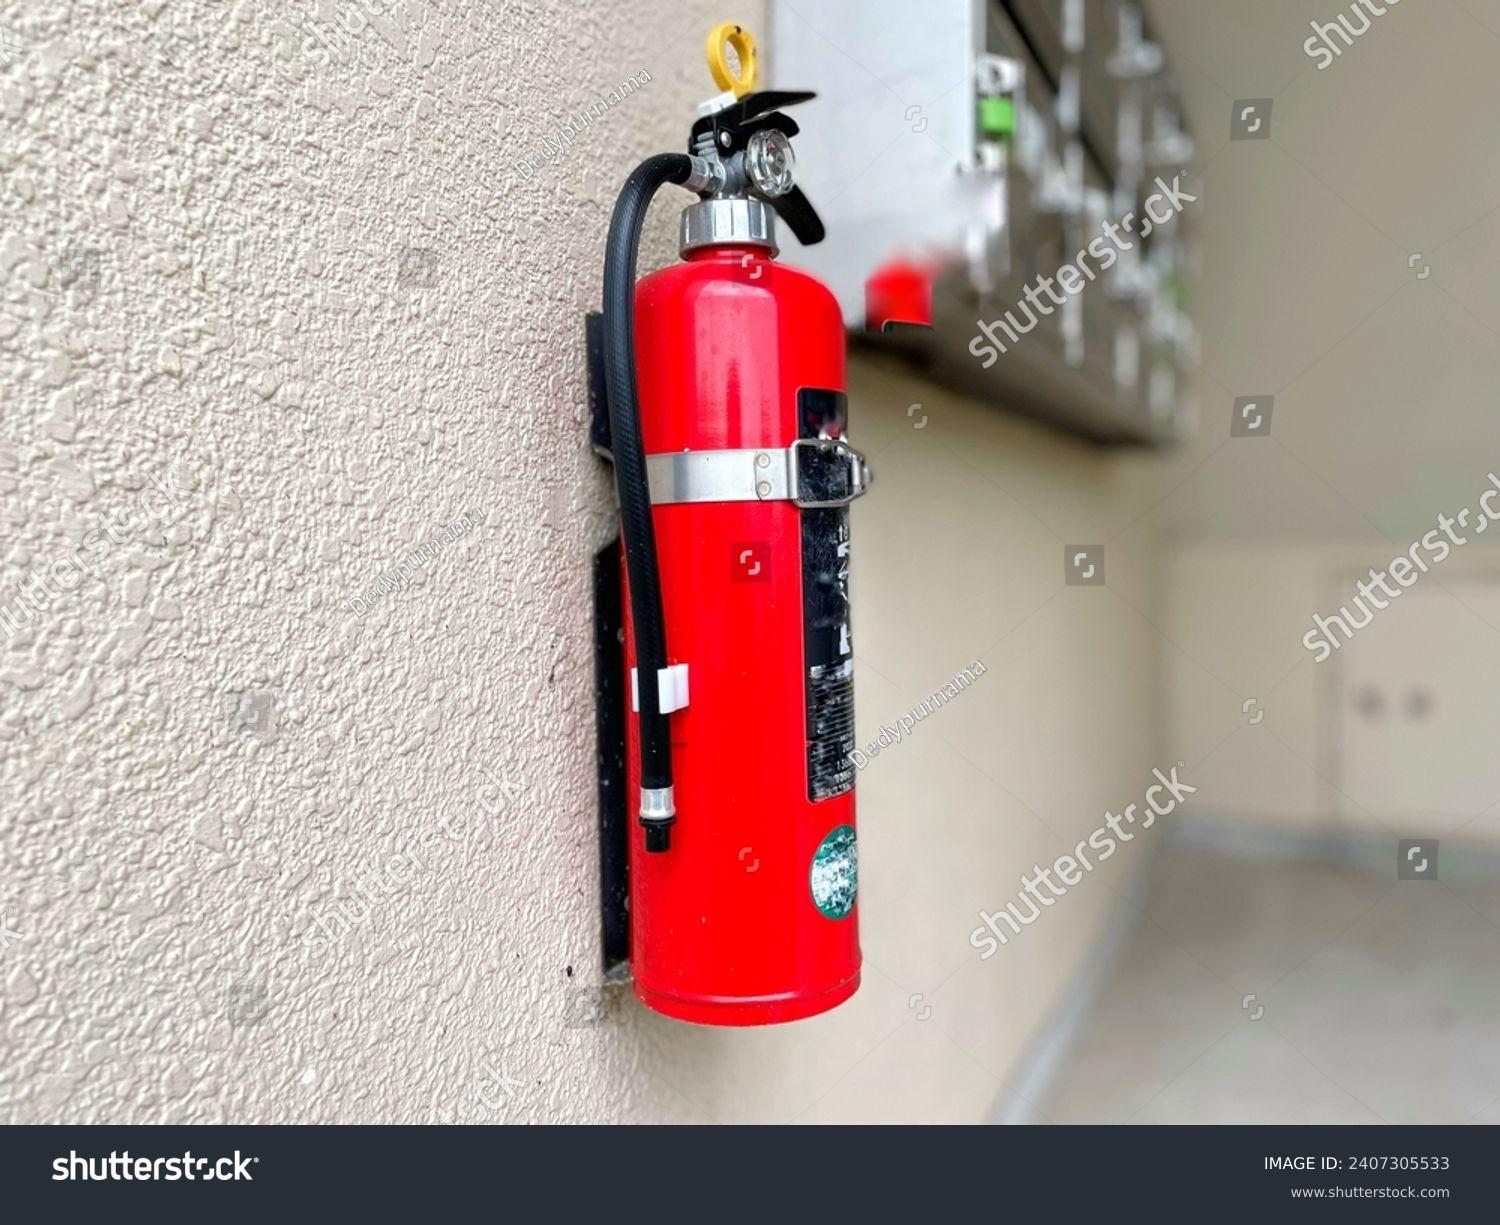wall-mounted: (482, 30, 919, 1048)
